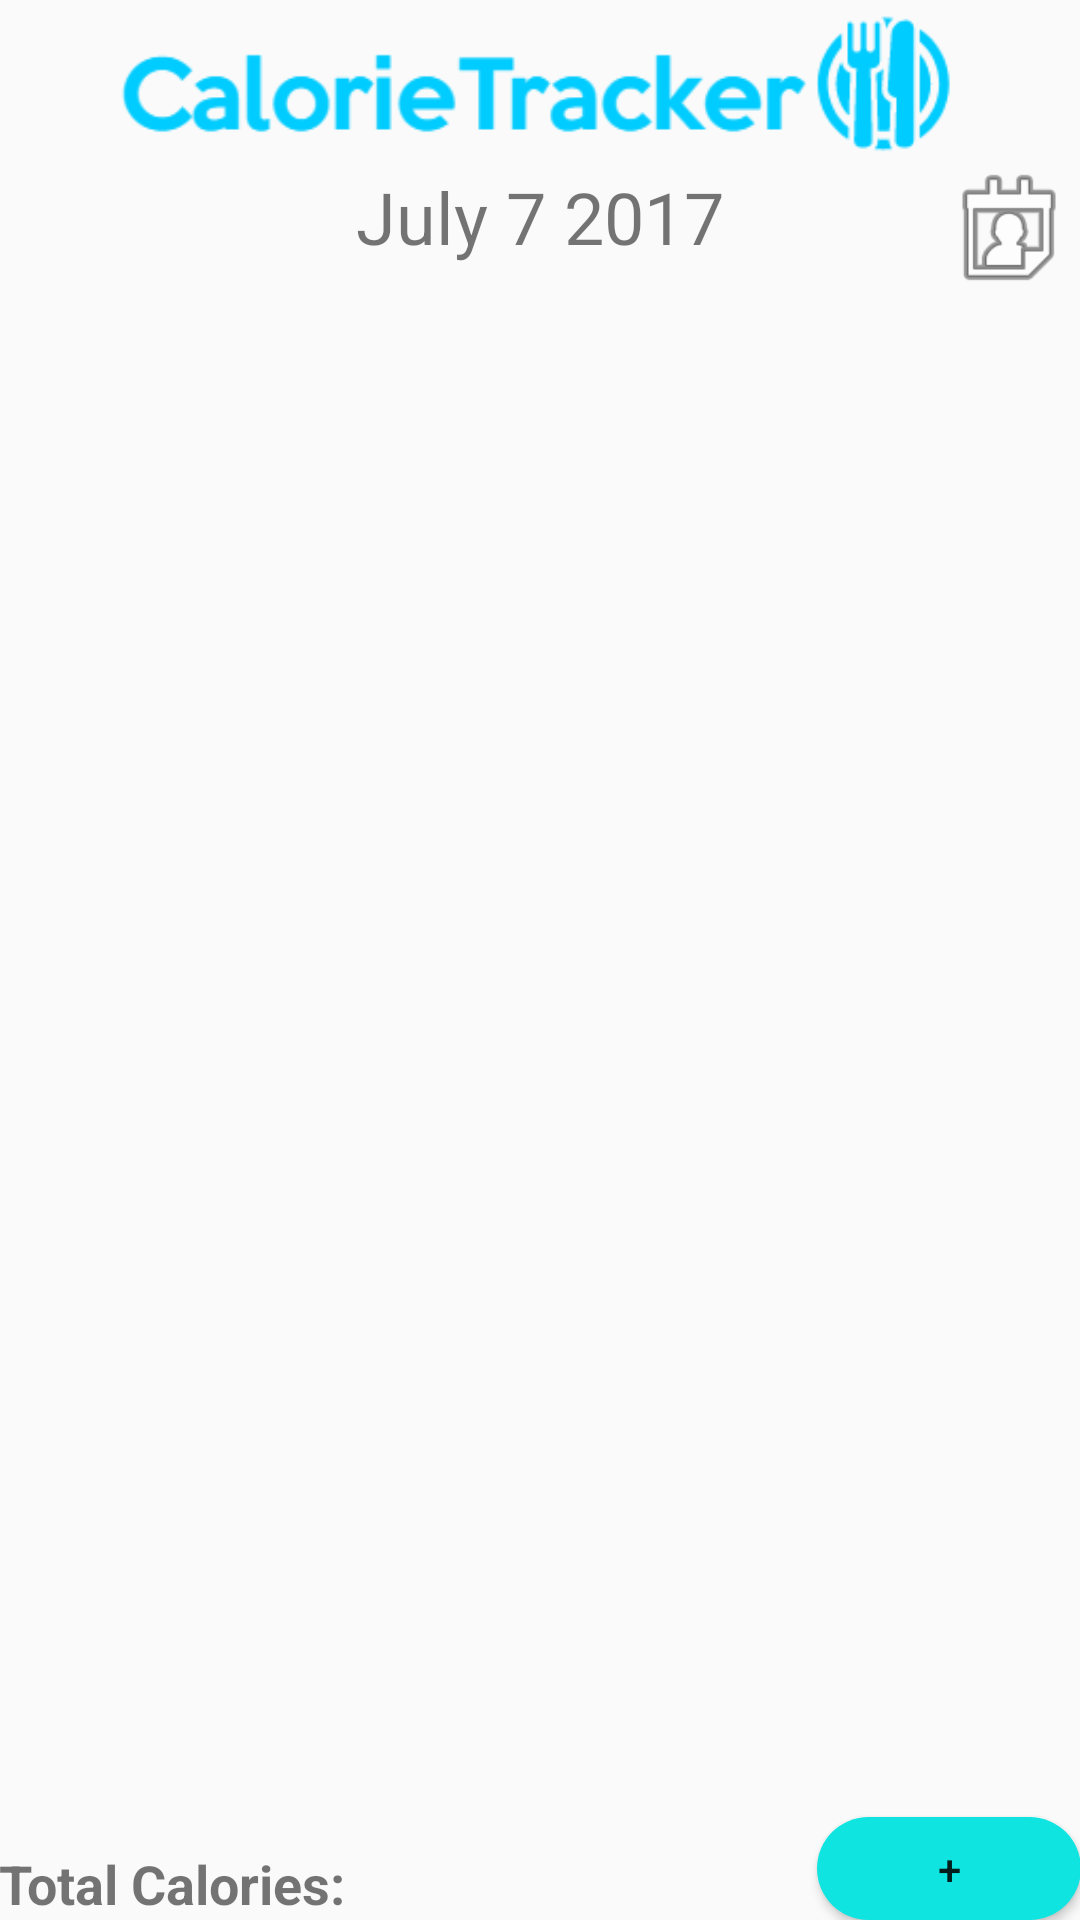

Screen size 1080px x 1920px. Icon name, then its box in pixels as box(x1, y1, x2, y2):
calendar: box(962, 175, 1056, 280)
